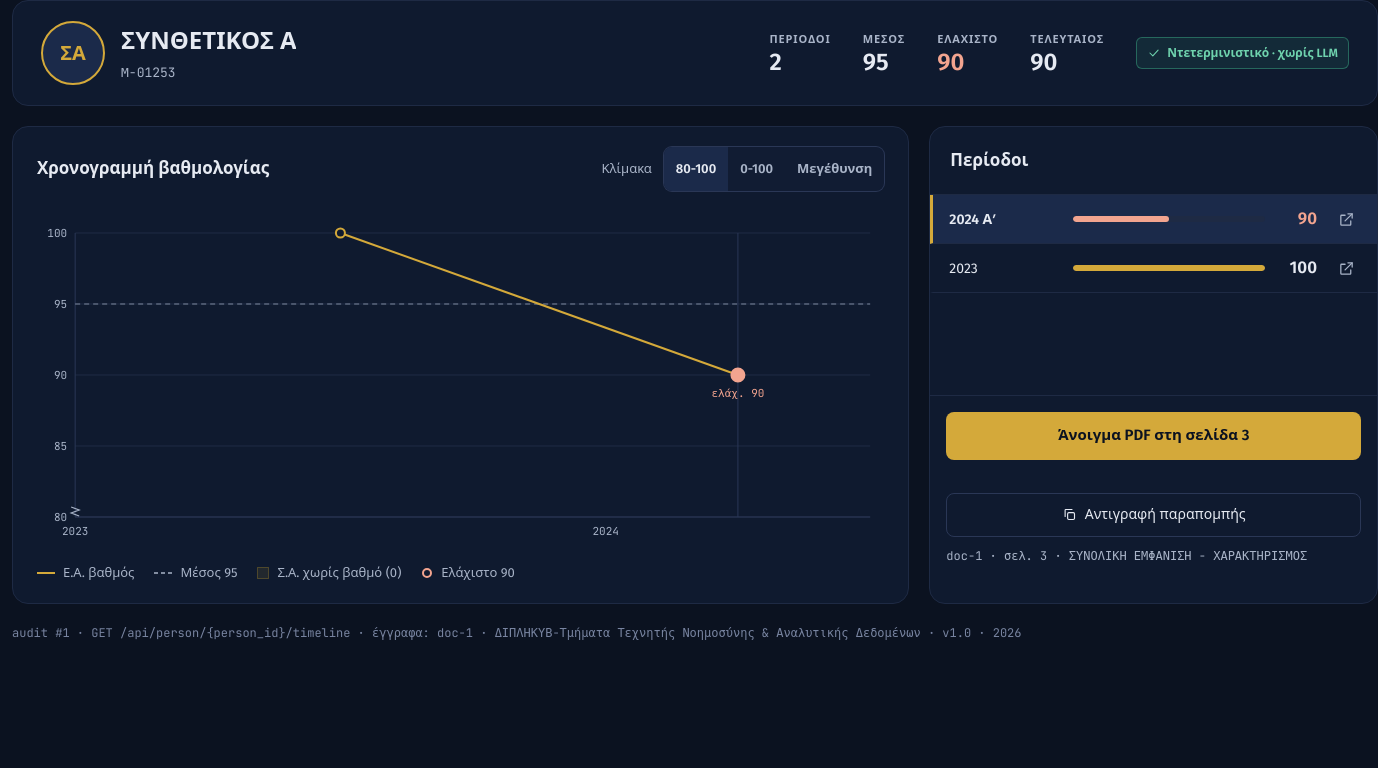
Test: TimelinePanel: άνοιγμα PDF › 404: neutral message, no technical reason, tab closed
Click the button "Άνοιγμα PDF στη σελίδα 3". click: (1154, 436)
box: [946,412,1361,460]
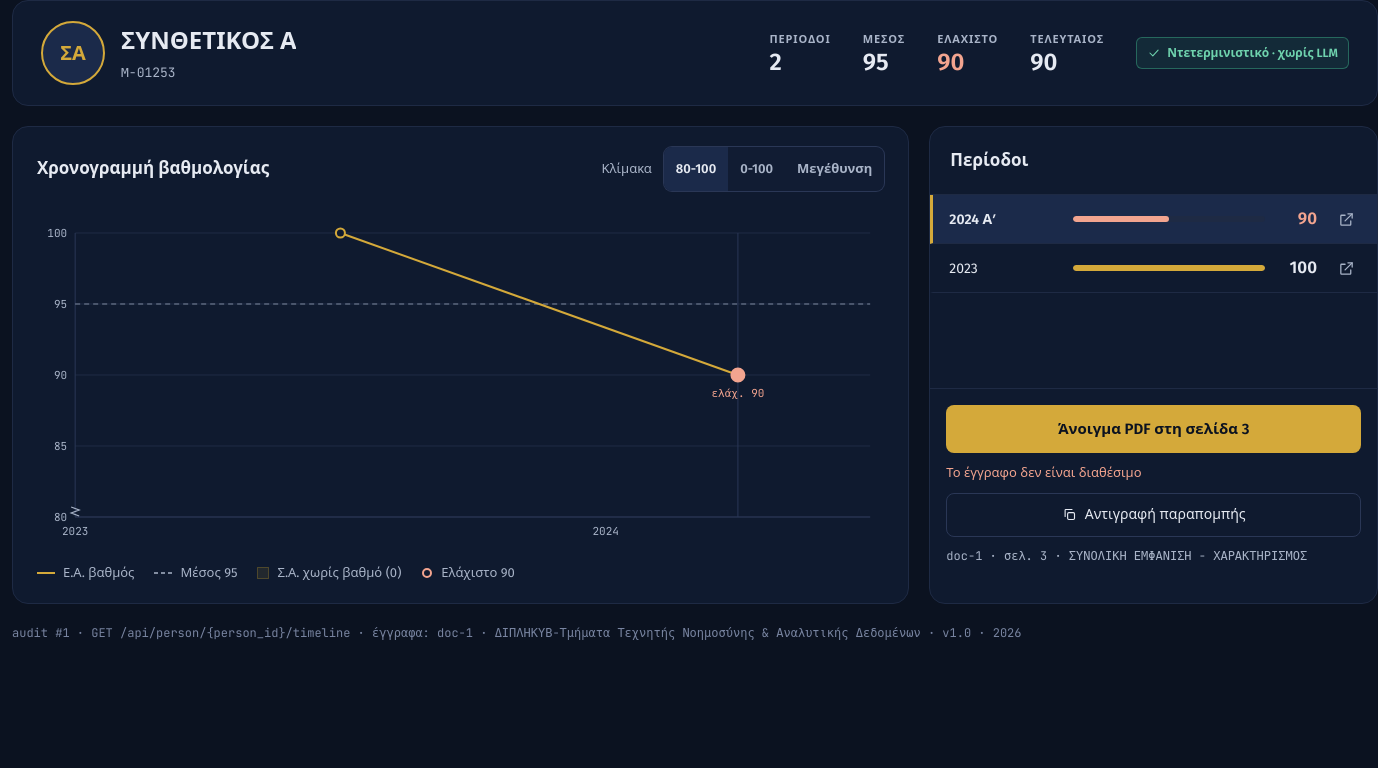
Result: the text "Το έγγραφο δεν είναι διαθέσιμο" is shown at [946,465,1142,480]
# Νέα επιλογή περιόδου: το μήνυμα σβήνει.
Click the button "2023 100". click: (1129, 268)
box: [933,244,1325,292]
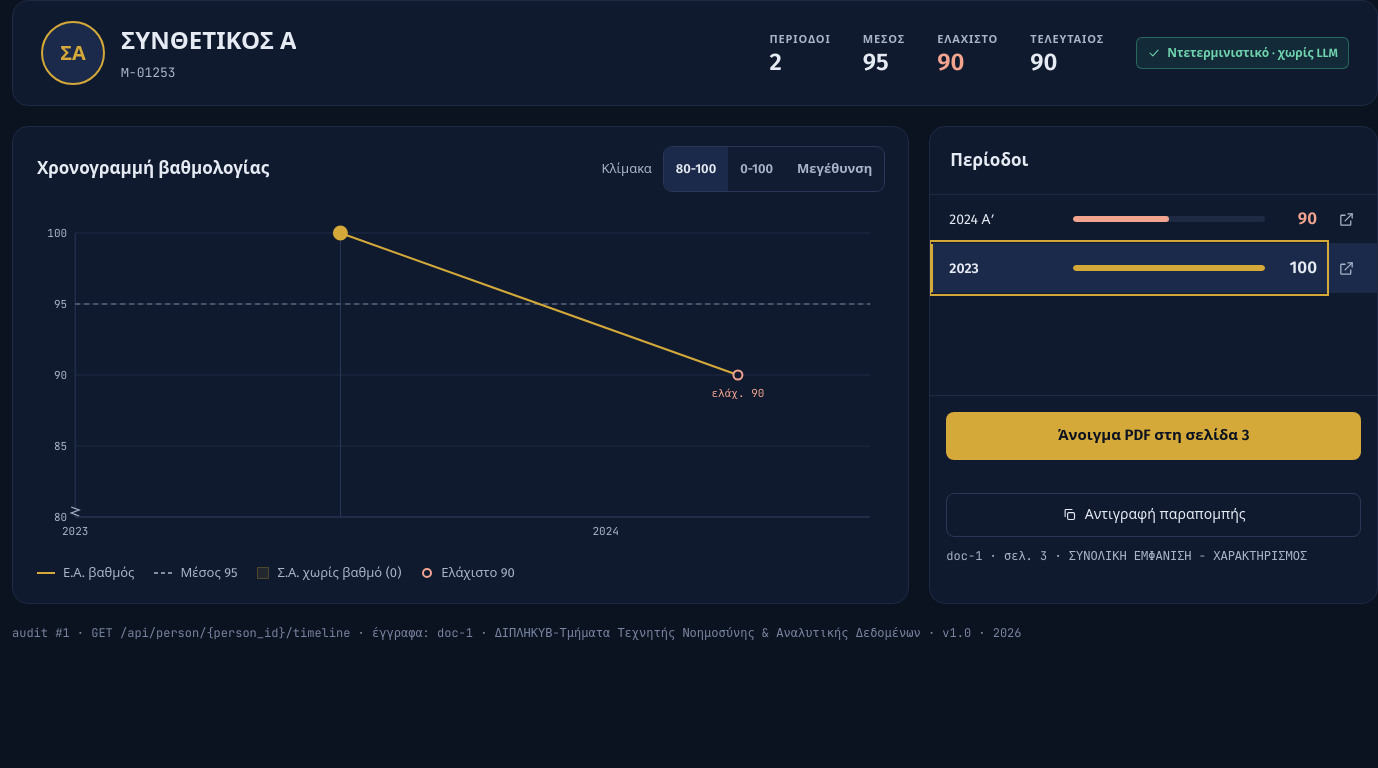
Result: the text "Το έγγραφο δεν είναι διαθέσιμο" is gone
